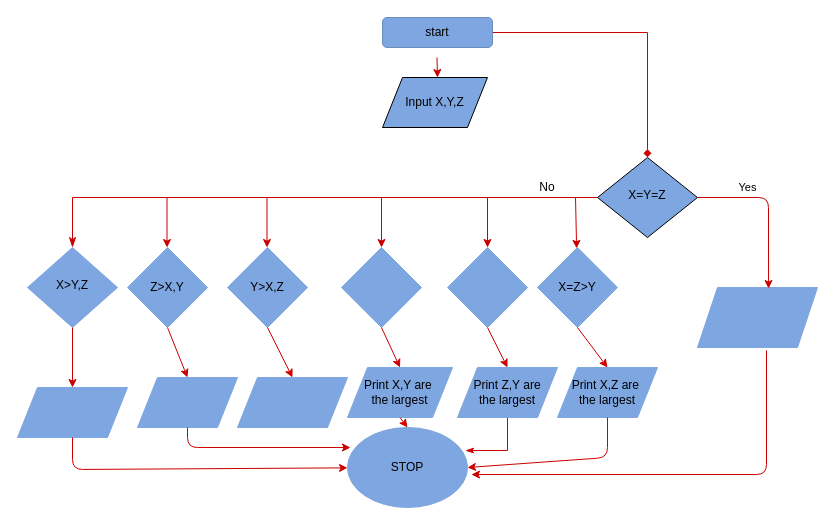
The diagram is 835 pixels wide and 525 high, and some of its shapes have lost their labels. The centre of each missing label's shape, as x and y in pixels:
"Print all numbers are equal" belongs at point 757,317.
"Print X is largest" belongs at point 72,412.
"Print Y is the largest" belongs at point 292,402.
"Print Z is the largest" belongs at point 187,402.
"X=Y>Z" belongs at point 381,287.
"Z=Y>X" belongs at point 487,287.
